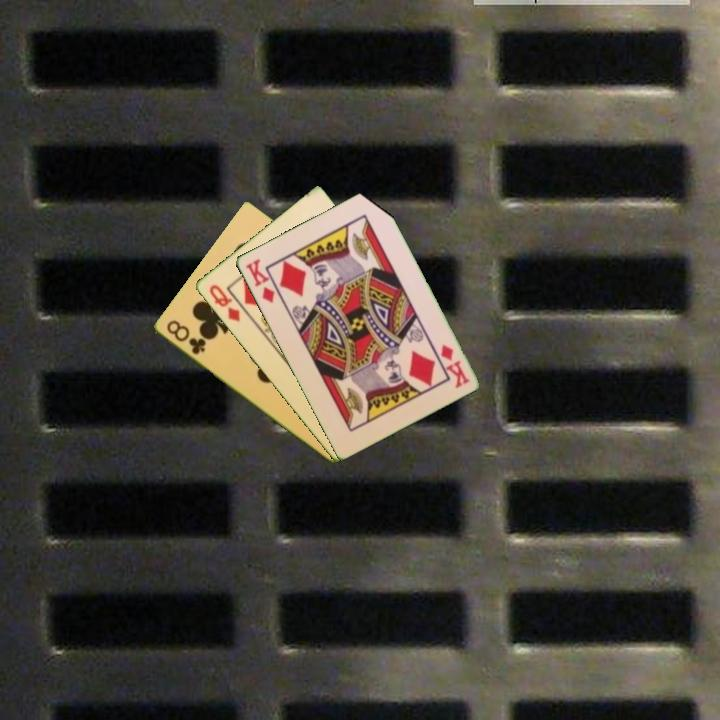8c: (162, 316, 209, 358)
Kd: (241, 255, 277, 306), (437, 340, 472, 391)
Qd: (205, 281, 243, 324)
